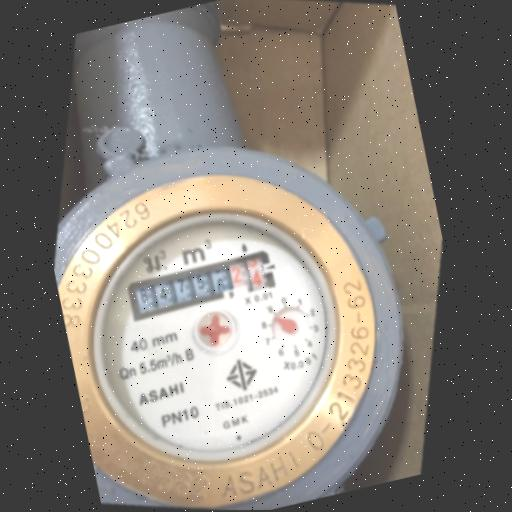2: (229, 263, 247, 288)
4: (246, 256, 266, 289), (154, 281, 174, 307)
5: (191, 272, 211, 297)
6: (212, 269, 230, 293)
7: (173, 278, 192, 303)
8: (135, 285, 155, 312)
border_water_meter_number: (125, 248, 280, 323)
